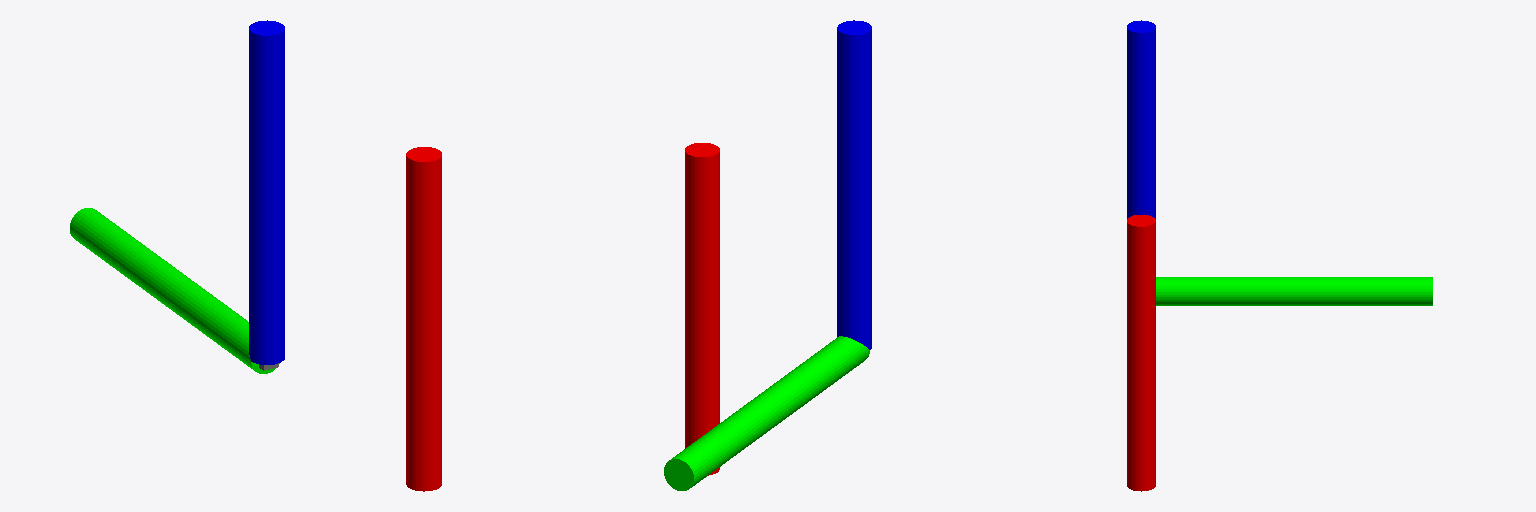
The robot description file, URDF, robot "arrow_model":
<?xml version="1.0"?>
<robot name="arrow_model">

  <!-- Base Link -->
  <link name="base_link">
    <visual>
      <geometry>
        <box size="0.01 0.01 0.01"/>
      </geometry>
      <material name="grey">
        <color rgba="0.5 0.5 0.5 1.0"/>
      </material>
    </visual>
  </link>

  <!-- X Arrow -->
  <link name="x_arrow">
    <visual>
      <geometry>
        <cylinder length="0.2" radius="0.01"/>
      </geometry>
      <material name="red">
        <color rgba="1 0 0 1"/>
      </material>
      <origin xyz="0.1 0 0" rpy="0 0 1.5708"/>
    </visual>
  </link>

  <!-- Y Arrow -->
  <link name="y_arrow">
    <visual>
      <geometry>
        <cylinder length="0.2" radius="0.01"/>
      </geometry>
      <material name="green">
        <color rgba="0 1 0 1"/>
      </material>
      <origin xyz="0 0.1 0" rpy="1.5708 0 0"/>
    </visual>
  </link>

  <!-- Z Arrow -->
  <link name="z_arrow">
    <visual>
      <geometry>
        <cylinder length="0.2" radius="0.01"/>
      </geometry>
      <material name="blue">
        <color rgba="0 0 1 1"/>
      </material>
      <origin xyz="0 0 0.1" rpy="0 0 0"/>
    </visual>
  </link>

  <!-- Joint Definitions (Fixed) -->
  <joint name="fixed_x" type="fixed">
    <parent link="base_link"/>
    <child link="x_arrow"/>
    <origin xyz="0 0 0" rpy="0 0 0"/>
  </joint>

  <joint name="fixed_y" type="fixed">
    <parent link="base_link"/>
    <child link="y_arrow"/>
    <origin xyz="0 0 0" rpy="0 0 0"/>
  </joint>

  <joint name="fixed_z" type="fixed">
    <parent link="base_link"/>
    <child link="z_arrow"/>
    <origin xyz="0 0 0" rpy="0 0 0"/>
  </joint>

</robot>

--- What the picture shows (computed from the rendered views, not written in the file) ---
Views: 3 orthographic renders of the robot side by side, from view 1: azimuth 30°, elevation 25°; view 2: azimuth 150°, elevation 25°; view 3: azimuth 270°, elevation 25°.
Robot: arrow_model — 4 links, 3 joints (3 fixed); root link base_link; default pose: all joints at 0.
Visible links, largest first — view 1: x_arrow, z_arrow, y_arrow; view 2: z_arrow, x_arrow, y_arrow; view 3: y_arrow, x_arrow, z_arrow.
Link boxes in pixels (<box>): x_arrow: <box>406,147,441,491</box>; z_arrow: <box>249,20,284,364</box>; y_arrow: <box>70,208,279,373</box>; z_arrow: <box>837,20,871,349</box>; x_arrow: <box>685,143,719,475</box>; y_arrow: <box>664,336,869,490</box>; y_arrow: <box>1156,277,1432,305</box>; x_arrow: <box>1127,215,1155,491</box>; z_arrow: <box>1127,20,1155,218</box>.
Size in the robot's own frame: 0.12 by 0.21 by 0.3 metres.
Geometry: primitives only (box / cylinder / sphere), no mesh files.